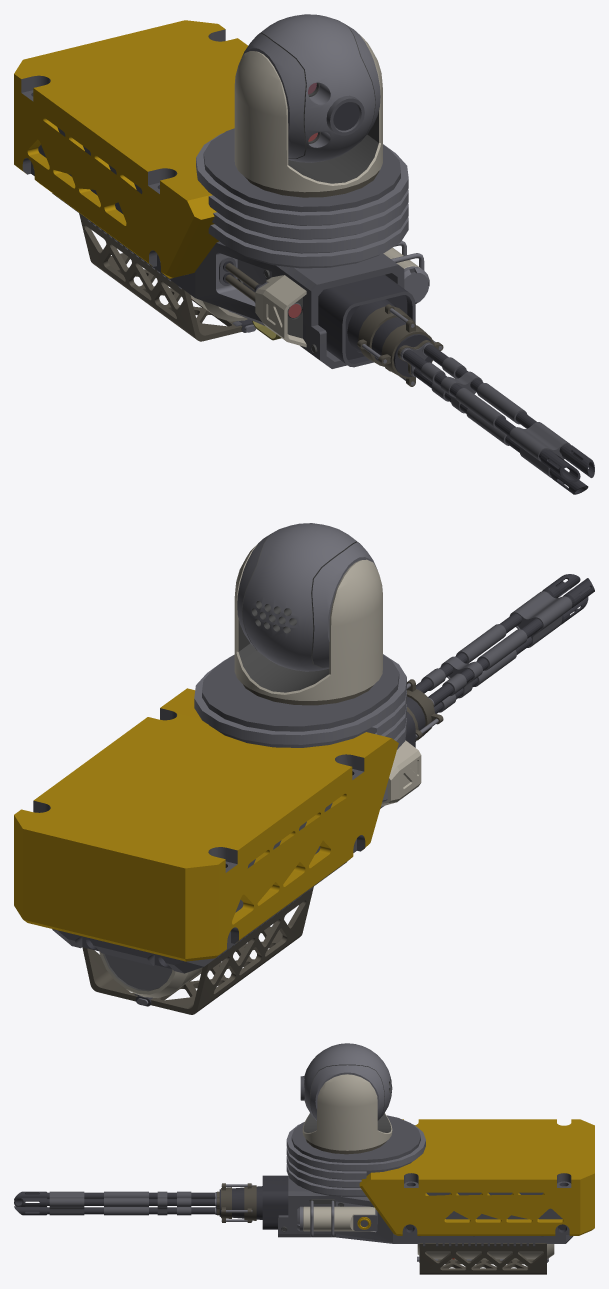
3 views of the same model, one above another, from view 1: azimuth 30°, elevation 25°; view 2: azimuth 150°, elevation 25°; view 3: azimuth 270°, elevation 25° (orthographic). The views are drawn at different scales.
Visible parts, largest first — view 1: polySurface776, polySurface697, polySurface777, polySurface820, polySurface818, polySurface746, polySurface698, polySurface772, polySurface771, polySurface774, polySurface773, polySurface828 (+12 smaller); view 2: polySurface776, polySurface697, polySurface777, polySurface818, polySurface746, polySurface772, polySurface769, polySurface820, polySurface783, polySurface828, polySurface822, polySurface700 (+3 smaller); view 3: polySurface776, polySurface777, polySurface820, polySurface700, polySurface697, polySurface818, polySurface791, polySurface772, polySurface698, polySurface783, polySurface813, polySurface769 (+9 smaller).
Part boxes in pixels (x1=…): polySurface776: x1=14, y1=20, x2=247, y2=278; polySurface697: x1=241, y1=14, x2=380, y2=162; polySurface777: x1=234, y1=34, x2=382, y2=192; polySurface820: x1=52, y1=193, x2=404, y2=368; polySurface818: x1=203, y1=128, x2=400, y2=268; polySurface746: x1=79, y1=213, x2=242, y2=341; polySurface698: x1=318, y1=275, x2=415, y2=367; polySurface772: x1=196, y1=133, x2=408, y2=225; polySurface771: x1=208, y1=189, x2=408, y2=238; polySurface774: x1=208, y1=217, x2=408, y2=266; polySurface773: x1=212, y1=203, x2=408, y2=252; polySurface828: x1=255, y1=275, x2=306, y2=347; polySurface776: x1=14, y1=688, x2=398, y2=961; polySurface697: x1=237, y1=523, x2=377, y2=671; polySurface777: x1=234, y1=541, x2=382, y2=700; polySurface818: x1=202, y1=654, x2=399, y2=747; polySurface746: x1=150, y1=886, x2=313, y2=1014; polySurface772: x1=194, y1=654, x2=406, y2=744; polySurface769: x1=99, y1=951, x2=202, y2=998; polySurface820: x1=52, y1=806, x2=383, y2=973; polySurface783: x1=509, y1=591, x2=572, y2=647; polySurface828: x1=381, y1=740, x2=421, y2=806; polySurface822: x1=428, y1=578, x2=594, y2=706; polySurface700: x1=82, y1=947, x2=137, y2=1001; polySurface776: x1=359, y1=1119, x2=594, y2=1235; polySurface777: x1=302, y1=1074, x2=392, y2=1150; polySurface820: x1=278, y1=1176, x2=573, y2=1243; polySurface700: x1=419, y1=1243, x2=546, y2=1274; polySurface697: x1=304, y1=1043, x2=392, y2=1120; polySurface818: x1=291, y1=1115, x2=420, y2=1196; polySurface791: x1=297, y1=1206, x2=375, y2=1231; polySurface772: x1=286, y1=1124, x2=425, y2=1170; polySurface698: x1=262, y1=1175, x2=288, y2=1229; polySurface783: x1=49, y1=1191, x2=84, y2=1215; polySurface813: x1=14, y1=1197, x2=214, y2=1206; polySurface769: x1=417, y1=1244, x2=554, y2=1259.
Bounding box in the file's own units: 1.59 × 2.63 × 6.46.
